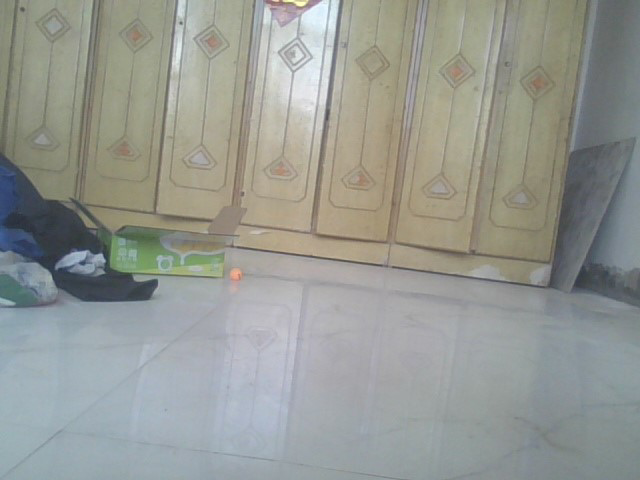ball: (229, 267, 242, 280)
